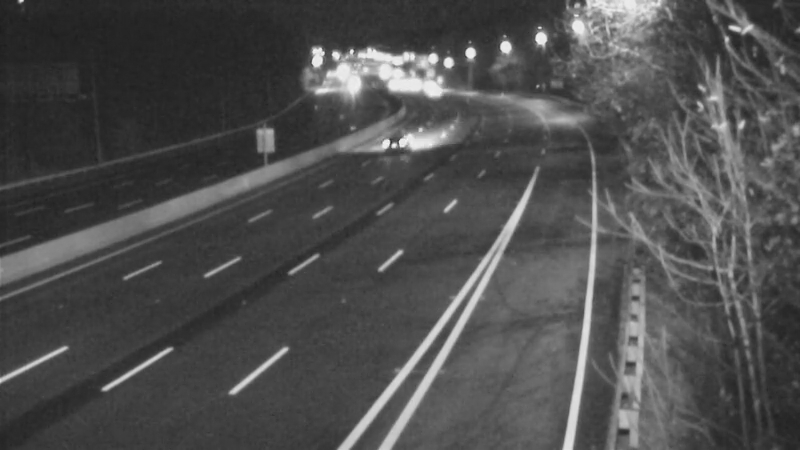vehicle: (411, 67, 461, 117), (370, 113, 420, 163), (326, 62, 376, 112)
